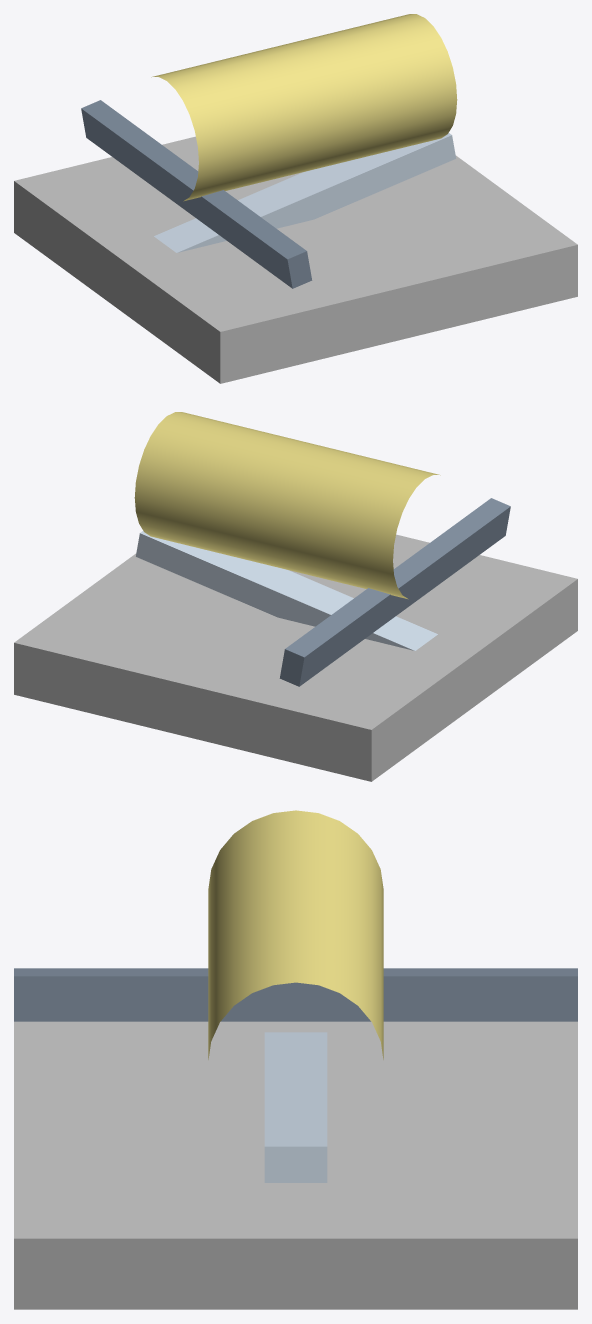
The model's file is railway_superelevation_cant_deficiency.glb.
3 renders of one model, top to bottom at view 1: azimuth 30°, elevation 25°; view 2: azimuth 150°, elevation 25°; view 3: azimuth 270°, elevation 25°, orthographic. The views are drawn at different scales.
Parts seen in each view (by area): view 1: CrushedStoneBallastBedCushion, ConedTrainWheelsetAxisModel, BroadGaugeSteelRailsPair, PrestressedConcreteSleepersPSC; view 2: CrushedStoneBallastBedCushion, ConedTrainWheelsetAxisModel, BroadGaugeSteelRailsPair, PrestressedConcreteSleepersPSC; view 3: CrushedStoneBallastBedCushion, ConedTrainWheelsetAxisModel, BroadGaugeSteelRailsPair, PrestressedConcreteSleepersPSC.
Part boxes in pixels (x1,y1,x2,y2): CrushedStoneBallastBedCushion: (14,136,577,383); ConedTrainWheelsetAxisModel: (151,14,457,201); BroadGaugeSteelRailsPair: (81,100,312,288); PrestressedConcreteSleepersPSC: (154,133,455,252); CrushedStoneBallastBedCushion: (14,534,577,781); ConedTrainWheelsetAxisModel: (134,412,440,599); BroadGaugeSteelRailsPair: (279,498,510,686); PrestressedConcreteSleepersPSC: (136,531,437,650); CrushedStoneBallastBedCushion: (14,1021,577,1309); ConedTrainWheelsetAxisModel: (208,810,383,1059); BroadGaugeSteelRailsPair: (14,968,577,1021); PrestressedConcreteSleepersPSC: (264,1032,327,1182).
Bounding box in the file's own units: 1.8 × 1.04 × 1.8.
